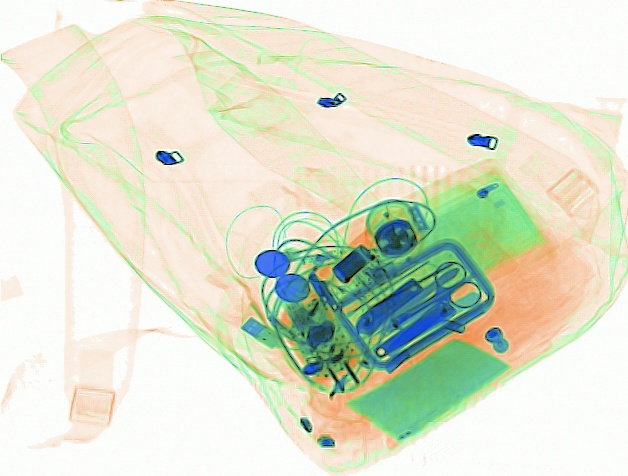lighter: (282, 246, 338, 340)
scissors: (378, 265, 480, 339)
